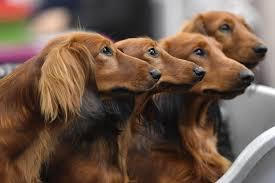Dog: (38, 30, 158, 122), (156, 30, 253, 99), (118, 30, 199, 87), (189, 6, 268, 56)
